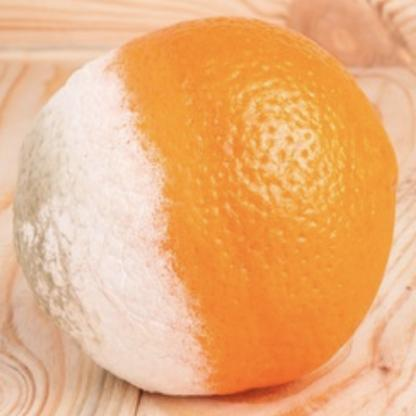rotten: (13, 17, 399, 399)
